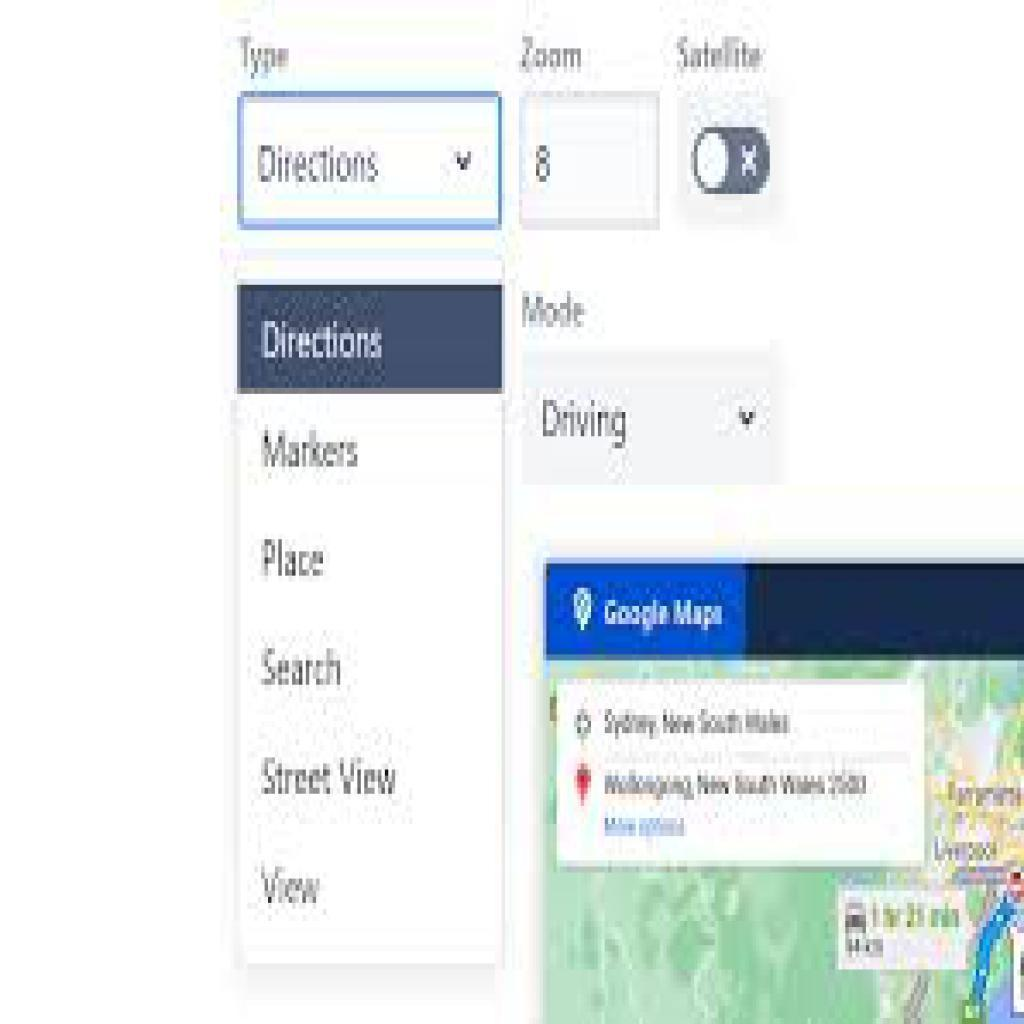dropdown: (242, 94, 502, 228), (526, 364, 780, 489)
input: (521, 93, 660, 226)
label: (676, 31, 769, 80), (514, 34, 588, 77), (235, 34, 296, 86)
switch: (692, 127, 774, 197)
